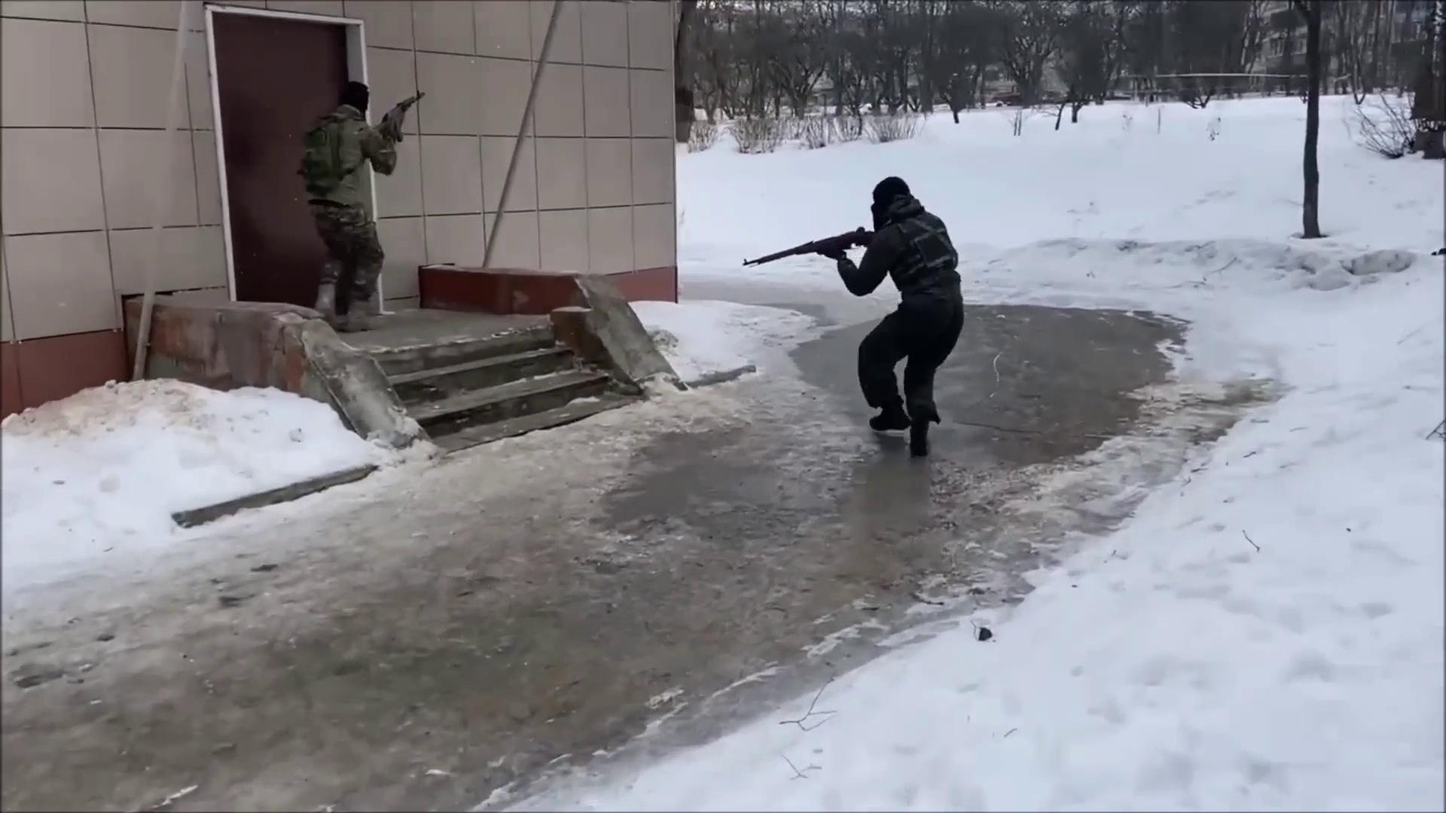person: (815, 175, 965, 459), (297, 79, 406, 333)
rifle: (742, 225, 875, 270)
